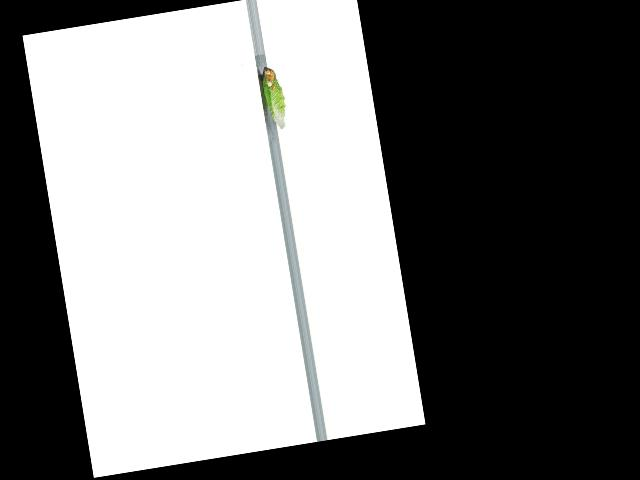lettuce: (256, 61, 291, 132)
